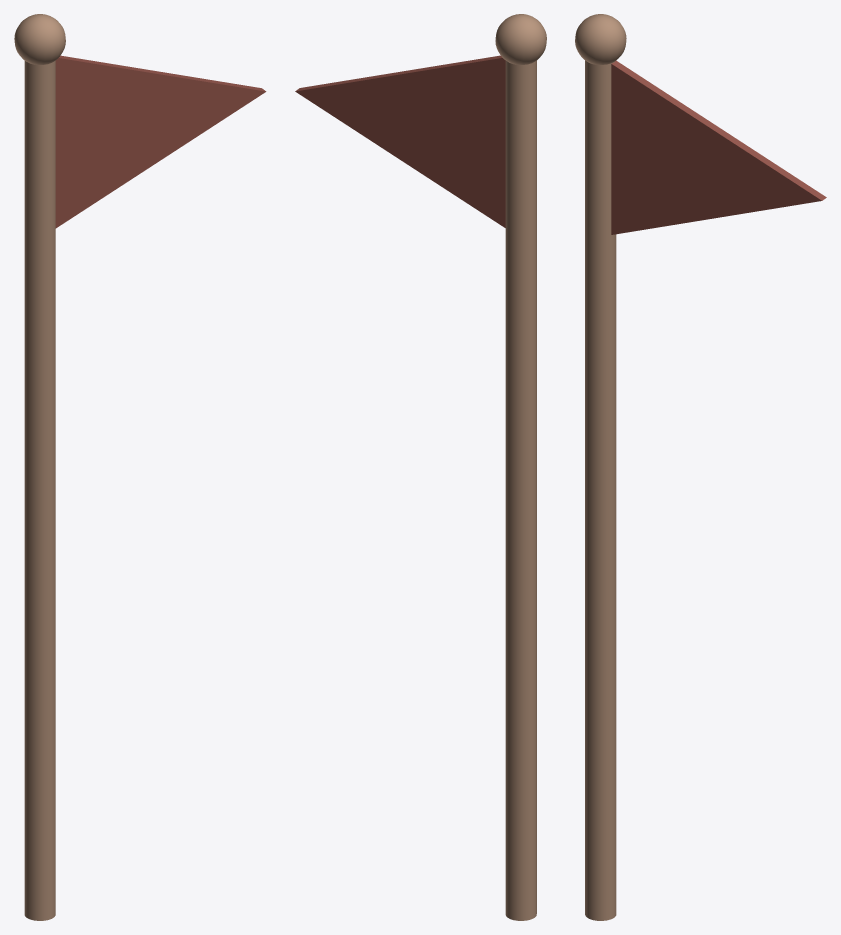
The model's file is Flag.fbx.
The picture shows the model from 3 angles, left to right: view 1: azimuth 30°, elevation 25°; view 2: azimuth 150°, elevation 25°; view 3: azimuth 330°, elevation 25°; orthographic projection.
Parts seen in each view (by area): view 1: pCylinder1, pPlane3, pSphere1; view 2: pCylinder1, pPlane3, pSphere1; view 3: pCylinder1, pPlane3, pSphere1.
Boxes of the visible parts, x1,y1,x2,y2 form: pCylinder1: (24,60,55,920); pPlane3: (55,55,266,228); pSphere1: (14,14,65,64); pCylinder1: (505,60,536,920); pPlane3: (295,55,505,227); pSphere1: (495,14,546,64); pCylinder1: (585,60,616,920); pPlane3: (611,60,826,234); pSphere1: (575,14,626,64).
Bounding box in the file's own units: 1.93 × 6.71 × 0.351.
